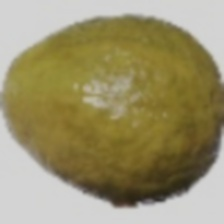guava: (12, 15, 167, 198)
